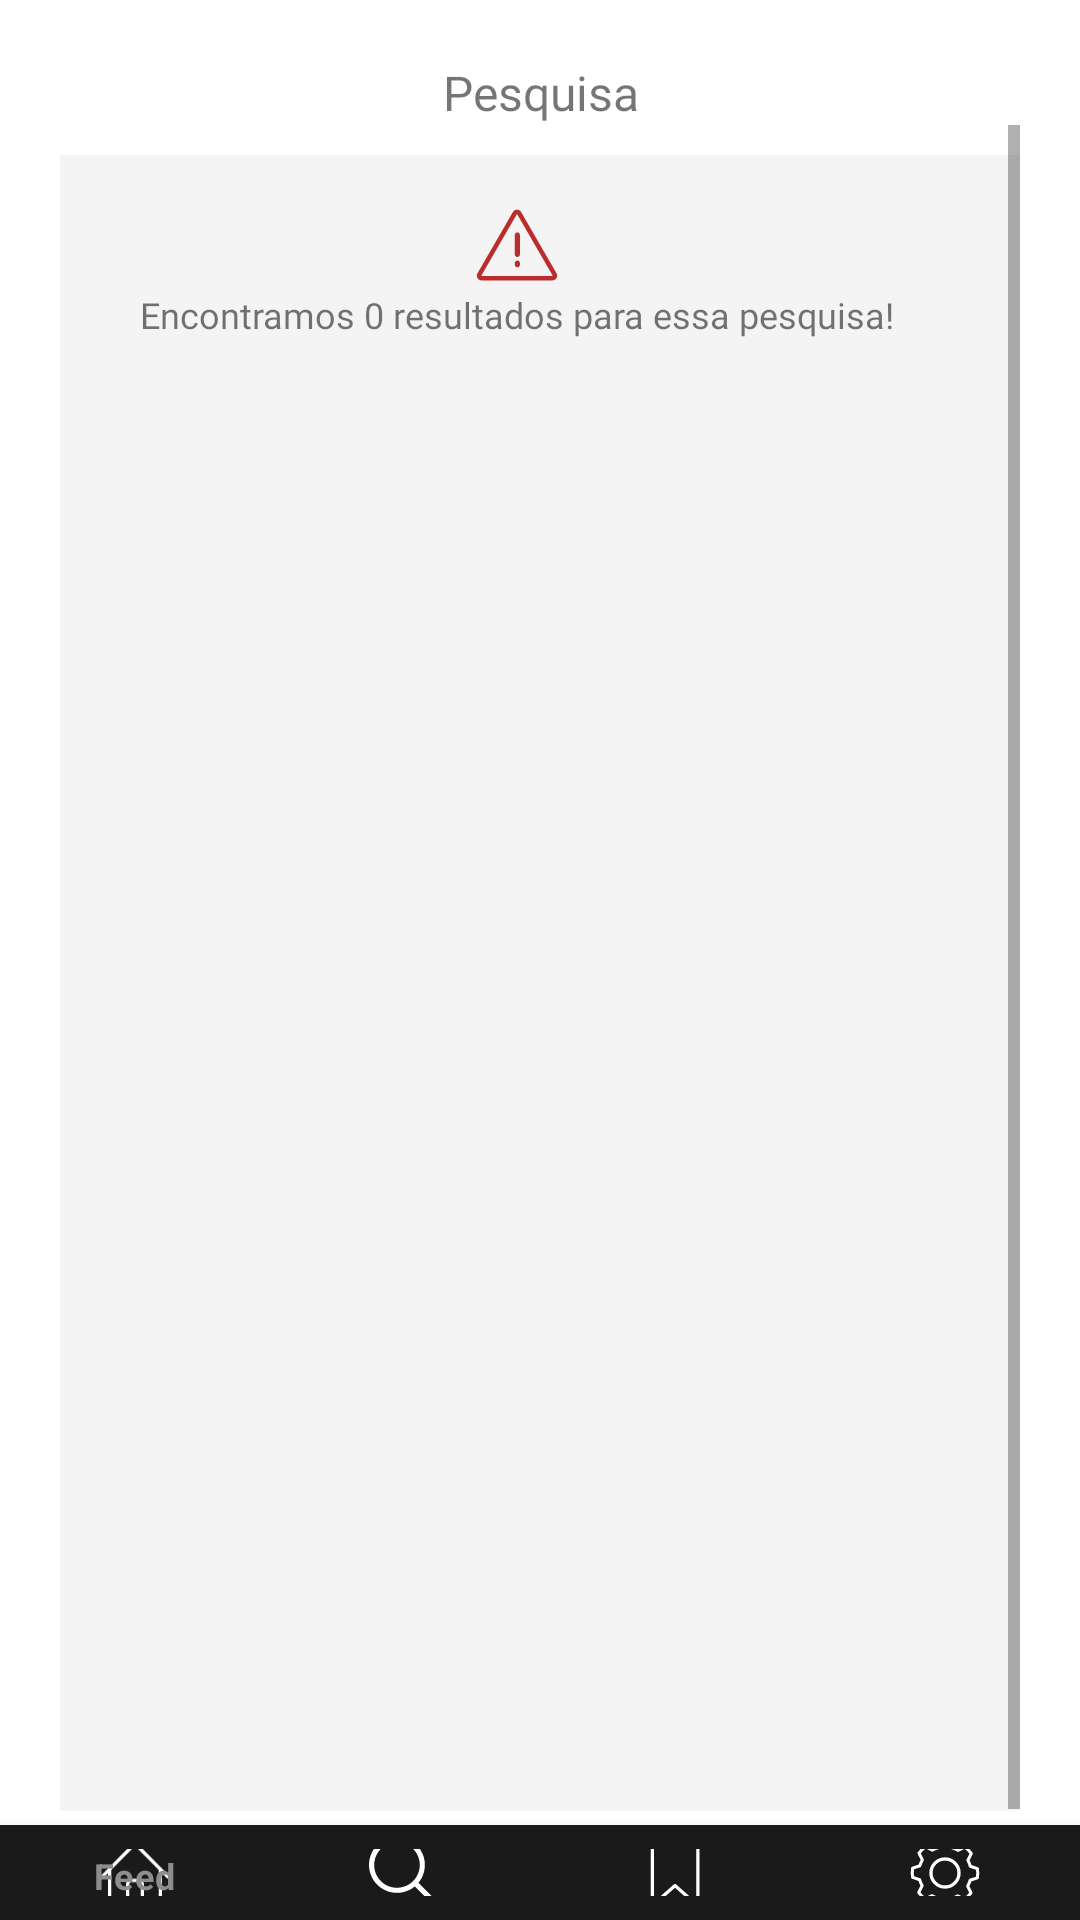

Where to tap for icons on this 1080×1920 app screen, as point (x, y):
iwwa alertalert: point (517, 245)
